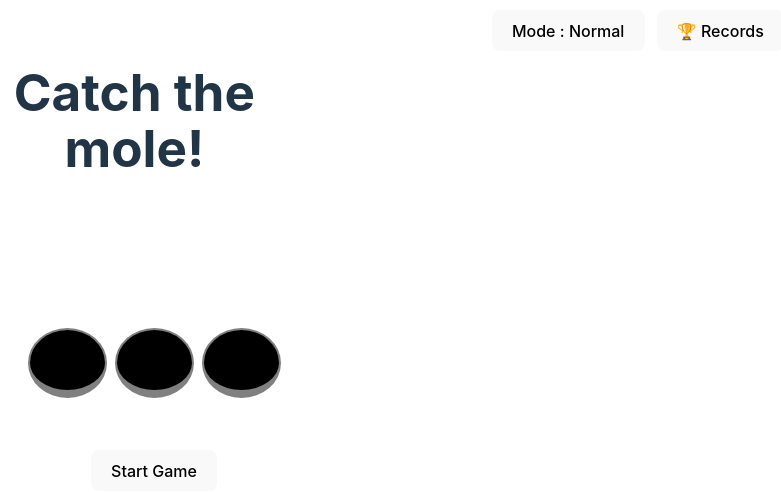
Test: App Component › changes mode when mode button is clicked
The image size is (781, 494).
Click the button "Mode : Normal" at [568, 31], box [492, 10, 645, 51]
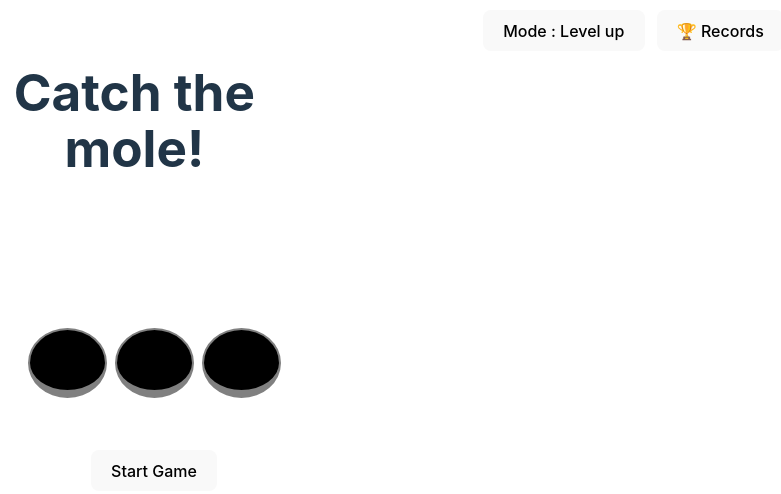
Expected: the button "Mode : Level up" is shown, [483, 10, 645, 51]
